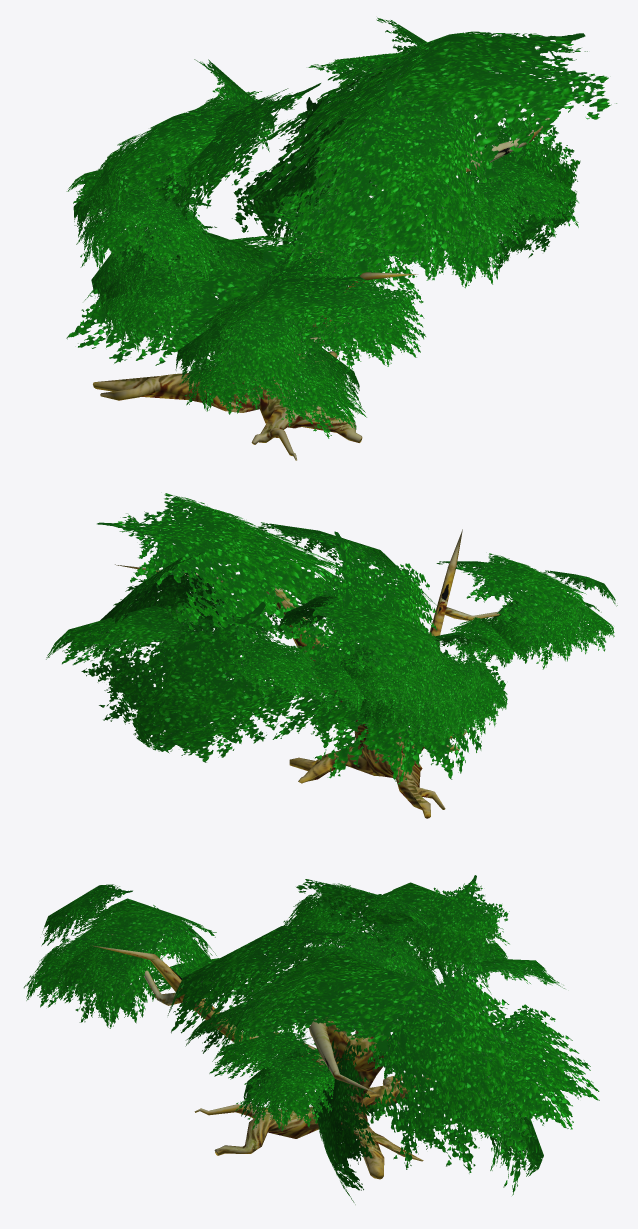
Rendered from jungle_tree_2.glb.
3 views of the same model, one above another, from view 1: azimuth 30°, elevation 25°; view 2: azimuth 150°, elevation 25°; view 3: azimuth 270°, elevation 25° (orthographic). The views are drawn at different scales.
Visible parts, largest first — view 1: jungle_tree_1_export.003; view 2: jungle_tree_1_export.003; view 3: jungle_tree_1_export.003.
Part boxes in pixels (<box>): jungle_tree_1_export.003: <box>66,17,616,460</box>; jungle_tree_1_export.003: <box>46,493,617,818</box>; jungle_tree_1_export.003: <box>23,875,599,1204</box>.
Size of the model in its own units: 17.28 by 9.41 by 17.74.
1 material, 1 textured.
